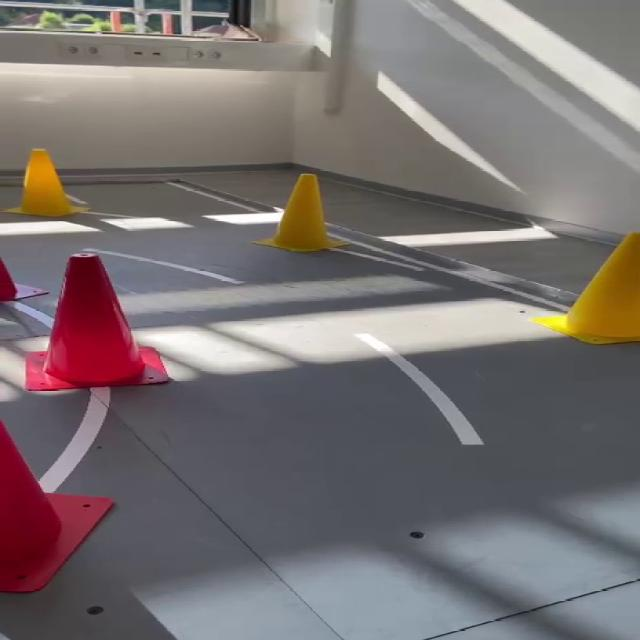Cone-red: (25, 254, 168, 391), (0, 419, 112, 592), (0, 258, 46, 303)
Cones-yellow: (532, 232, 639, 344), (257, 174, 345, 252), (1, 149, 76, 216), (29, 337, 48, 350)
